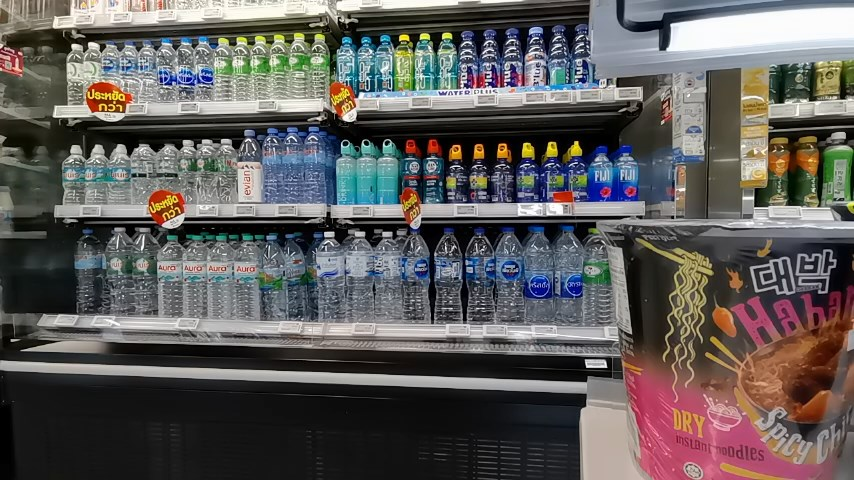1-1: (105, 226, 156, 313)
